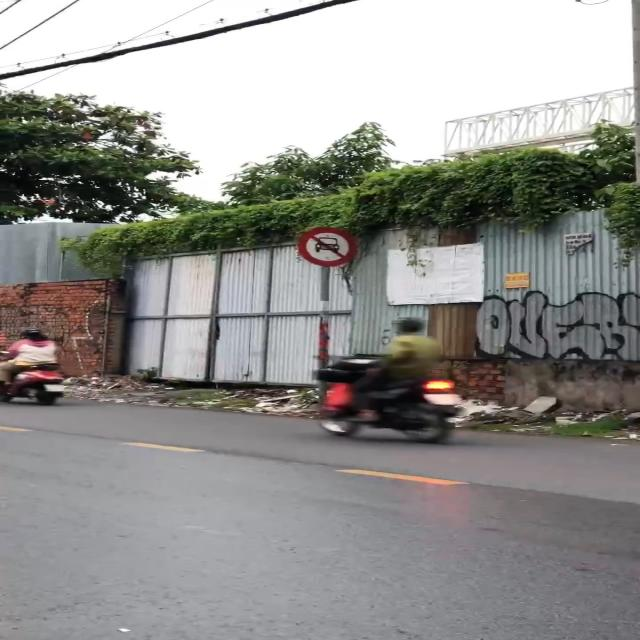Bien bao cam xe oto: (294, 224, 362, 266)
